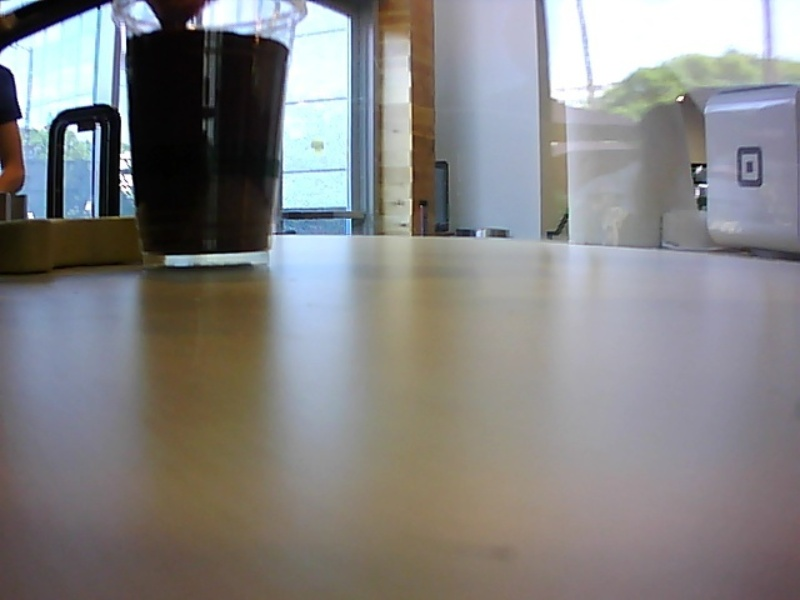cup: (106, 1, 308, 275)
limit: (124, 22, 295, 52)
